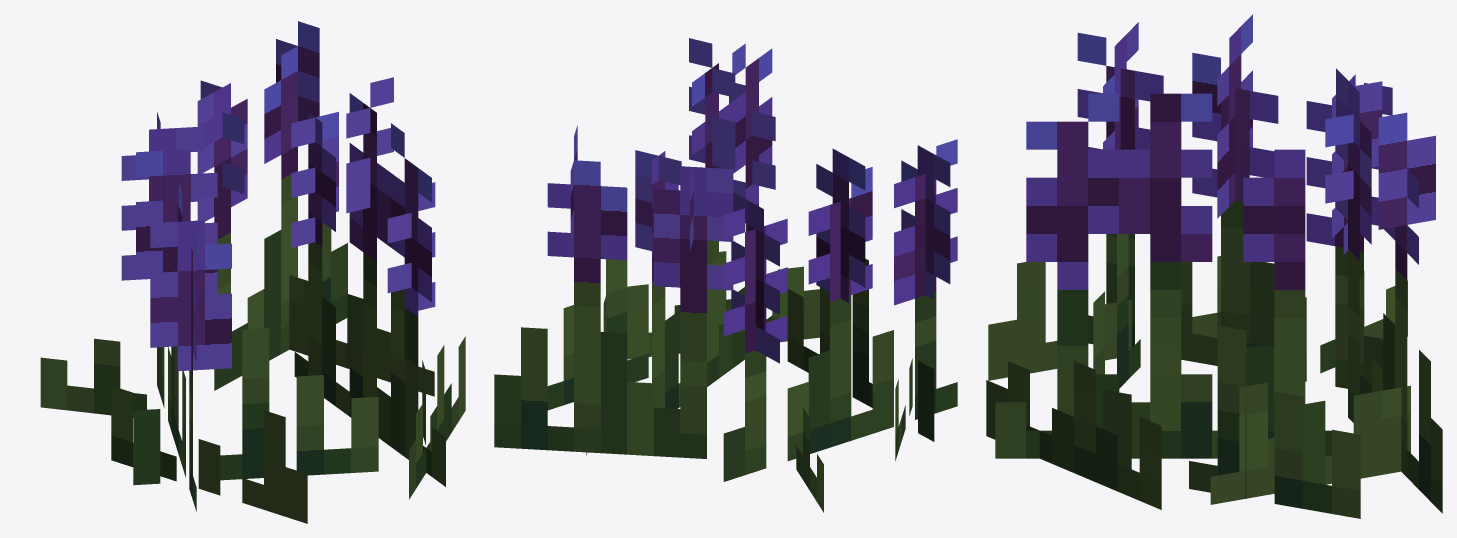
The model's file is flower-purple.gltf.
3 renders of one model, left to right at view 1: azimuth 30°, elevation 25°; view 2: azimuth 150°, elevation 25°; view 3: azimuth 270°, elevation 25°, orthographic. The views are drawn at different scales.
Parts seen in each view (by area): view 1: cube (×16); view 2: cube (×14); view 3: cube (×14).
Boxes of the visible parts, x1,y1,x2,y2 form: cube (×16): [40, 21, 465, 523]; cube (×14): [494, 38, 957, 512]; cube (×14): [986, 14, 1442, 518].
Size of the model in its own units: 0.9392 by 0.875 by 0.9208.
Materials: 1 (1 with a texture image).
